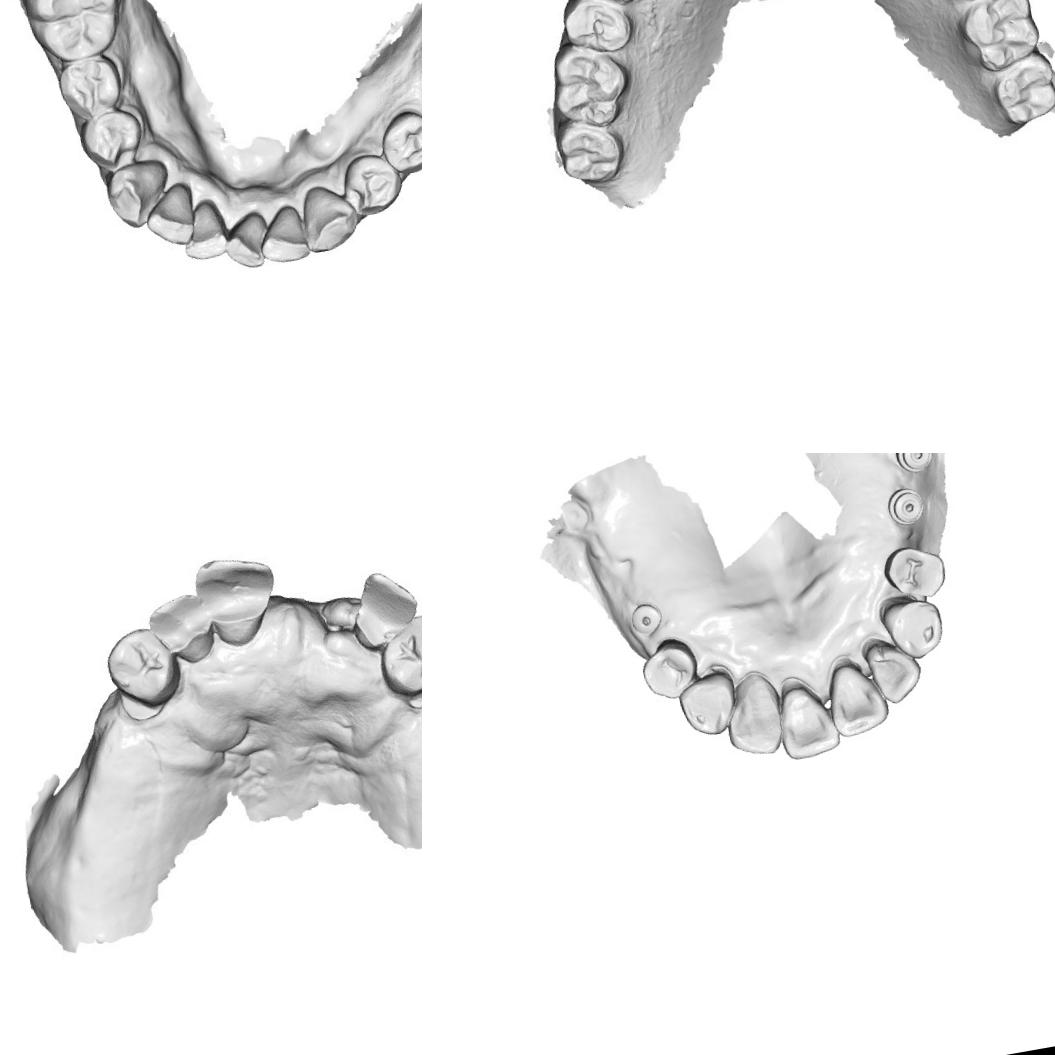canine: (875, 588, 948, 666), (673, 668, 742, 740), (103, 158, 169, 230), (296, 178, 360, 250)
implant: (883, 484, 928, 528), (626, 598, 665, 638), (890, 453, 937, 477)
incisor: (190, 546, 286, 648), (340, 565, 420, 653), (718, 668, 790, 761), (770, 672, 842, 762), (142, 589, 218, 669), (822, 654, 892, 738), (862, 632, 926, 708), (374, 606, 422, 703), (141, 180, 203, 248), (257, 198, 316, 266), (178, 193, 235, 262), (222, 206, 275, 270)
molar: (544, 40, 633, 134), (955, 0, 1041, 76), (21, 0, 122, 63), (987, 48, 1055, 128), (552, 116, 620, 182)
premolar: (101, 622, 182, 710), (553, 0, 635, 67), (78, 103, 148, 174), (55, 53, 124, 125), (336, 145, 404, 218), (636, 632, 702, 704), (880, 539, 948, 604), (374, 100, 422, 181)
